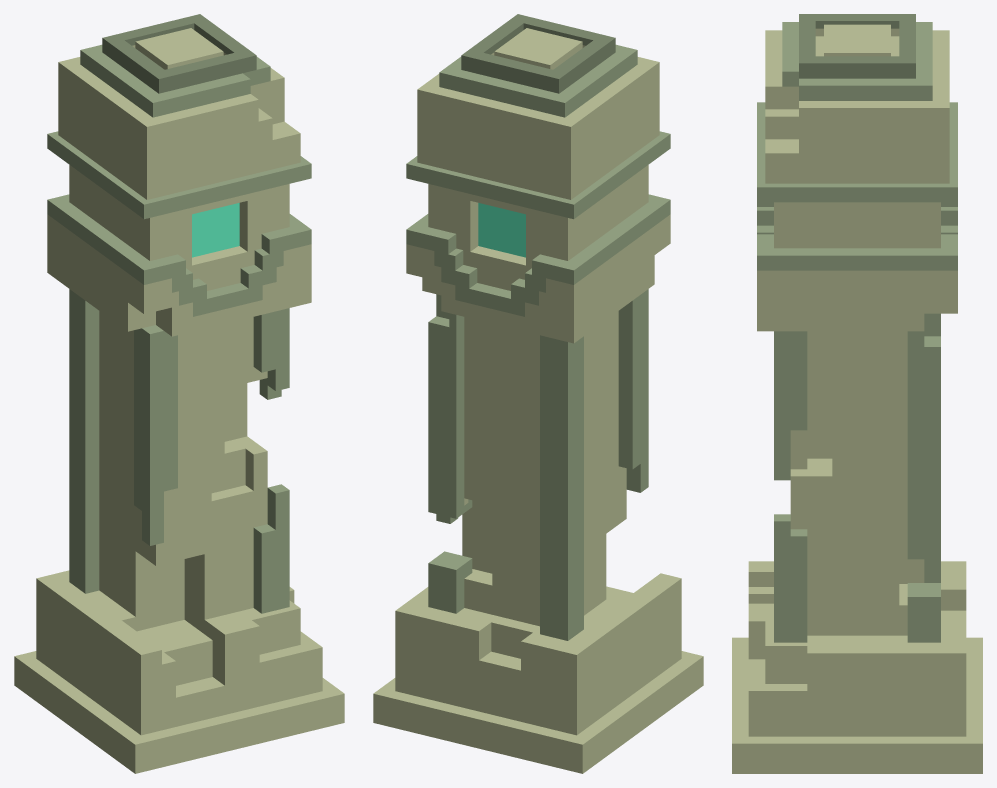
Rendered from stone pillar.fbx.
The picture shows the model from 3 angles, left to right: view 1: azimuth 30°, elevation 25°; view 2: azimuth 150°, elevation 25°; view 3: azimuth 270°, elevation 25°; orthographic projection. The views are drawn at different scales.
Visible parts, largest first — view 1: ObjObject.004; view 2: ObjObject.004; view 3: ObjObject.004.
Boxes of the visible parts, x1,y1,x2,y2 form: ObjObject.004: (14, 14, 344, 773); ObjObject.004: (373, 14, 703, 773); ObjObject.004: (732, 14, 982, 773).
Size of the model in its own units: 300 by 900 by 300.
